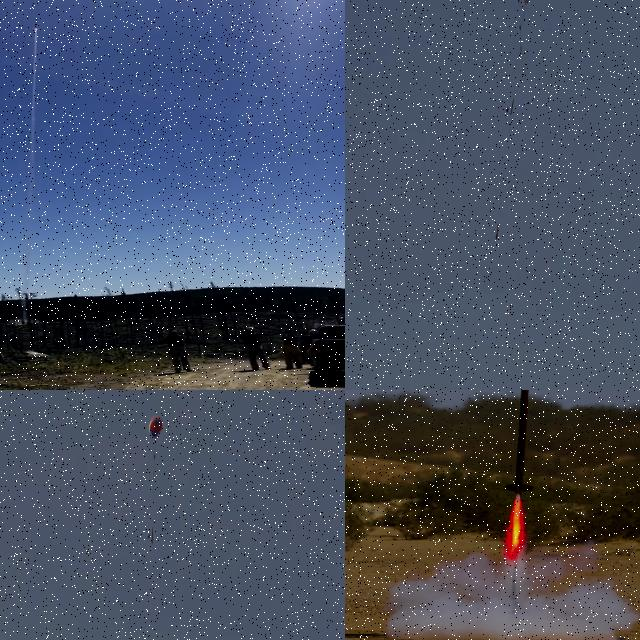Rocket: (504, 390, 534, 495), (496, 222, 499, 240), (35, 26, 38, 28)
